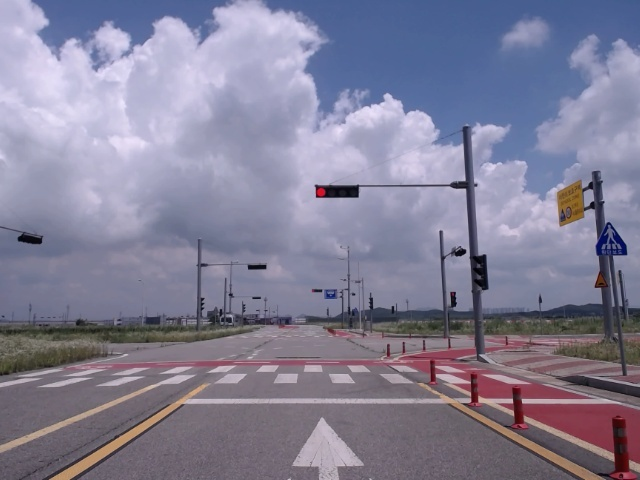red_4: (316, 185, 359, 199)
